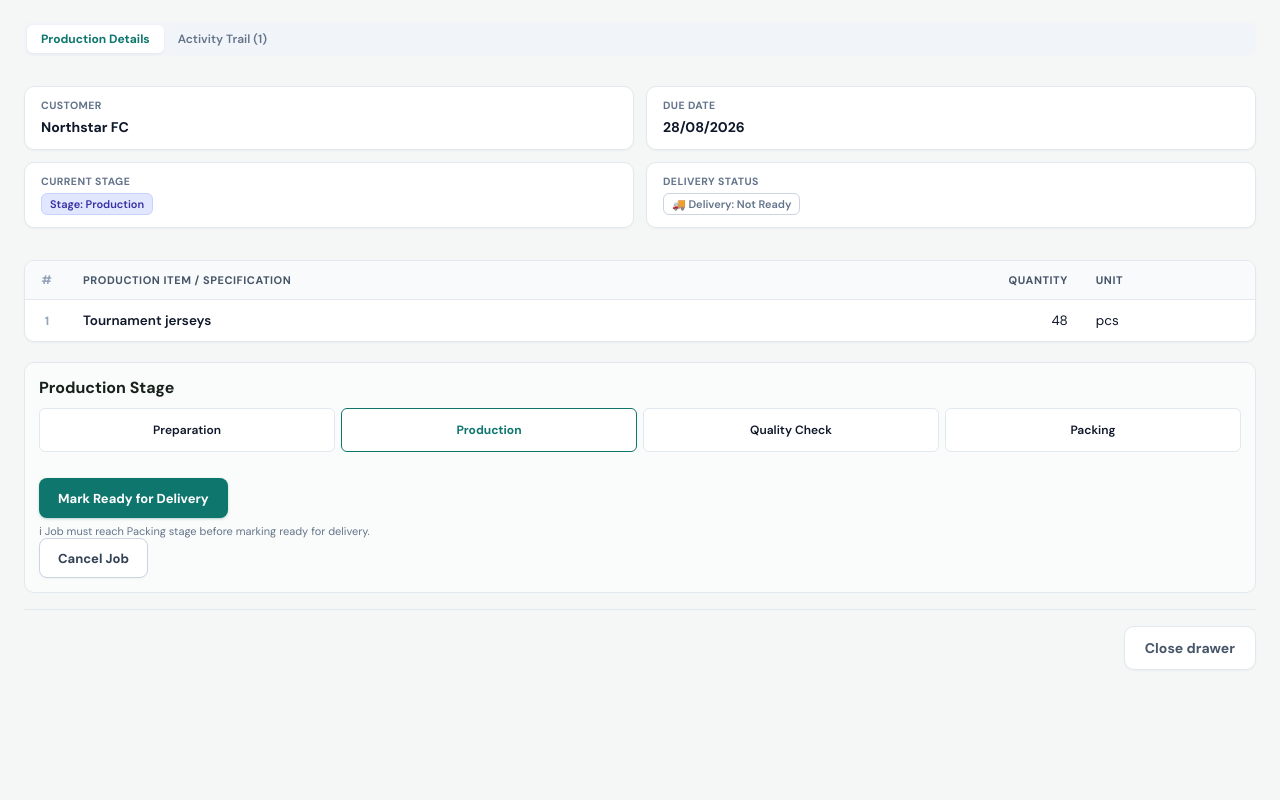
Test: Jobs Feature Interactive Journey (AT-03, AT-06) › replays a committed-but-lost job cancellation using the same request key/payload/version on retry (correction)
Click the button "Cancel Job".
click(94, 558)  # box [39,538,148,578]
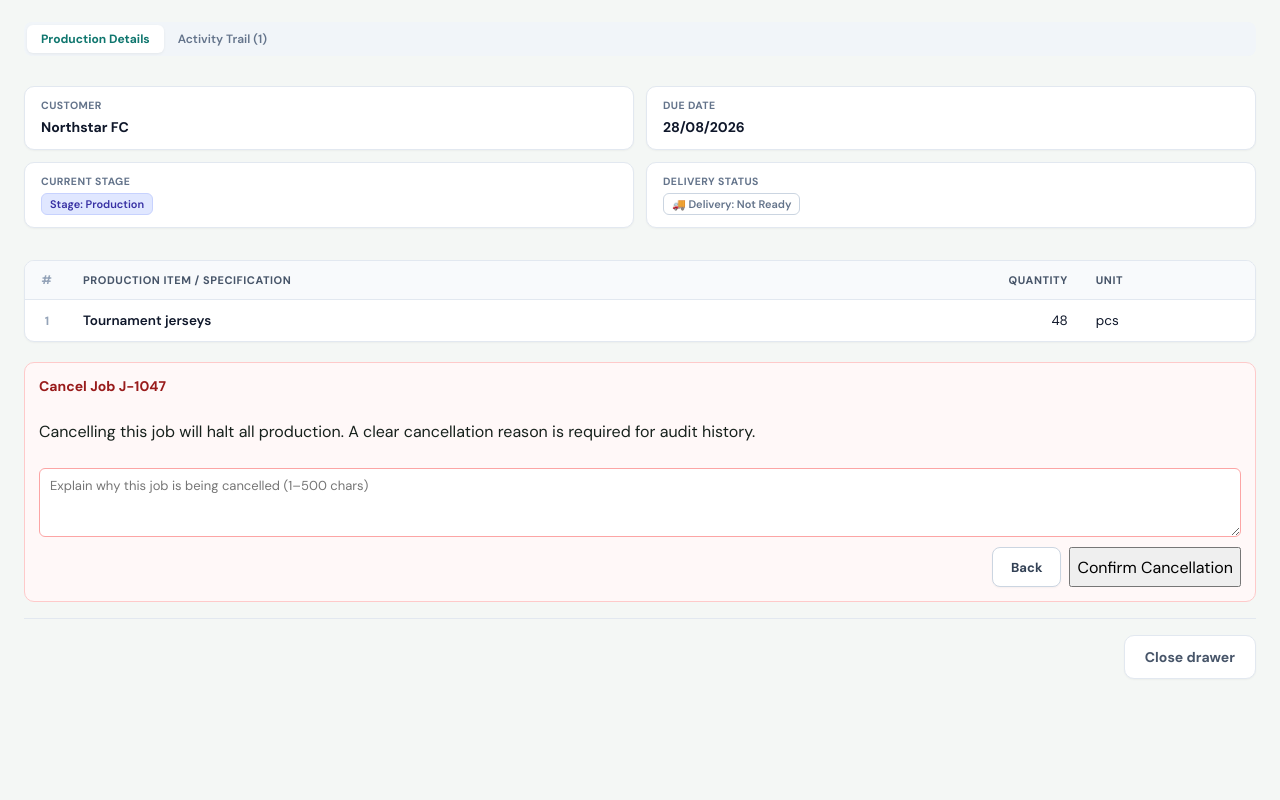
Type "Customer double-booked the venue" into the text box named "Cancellation reason".
click(640, 502); type("Customer double-booked the venue")  # box [39,468,1241,537]
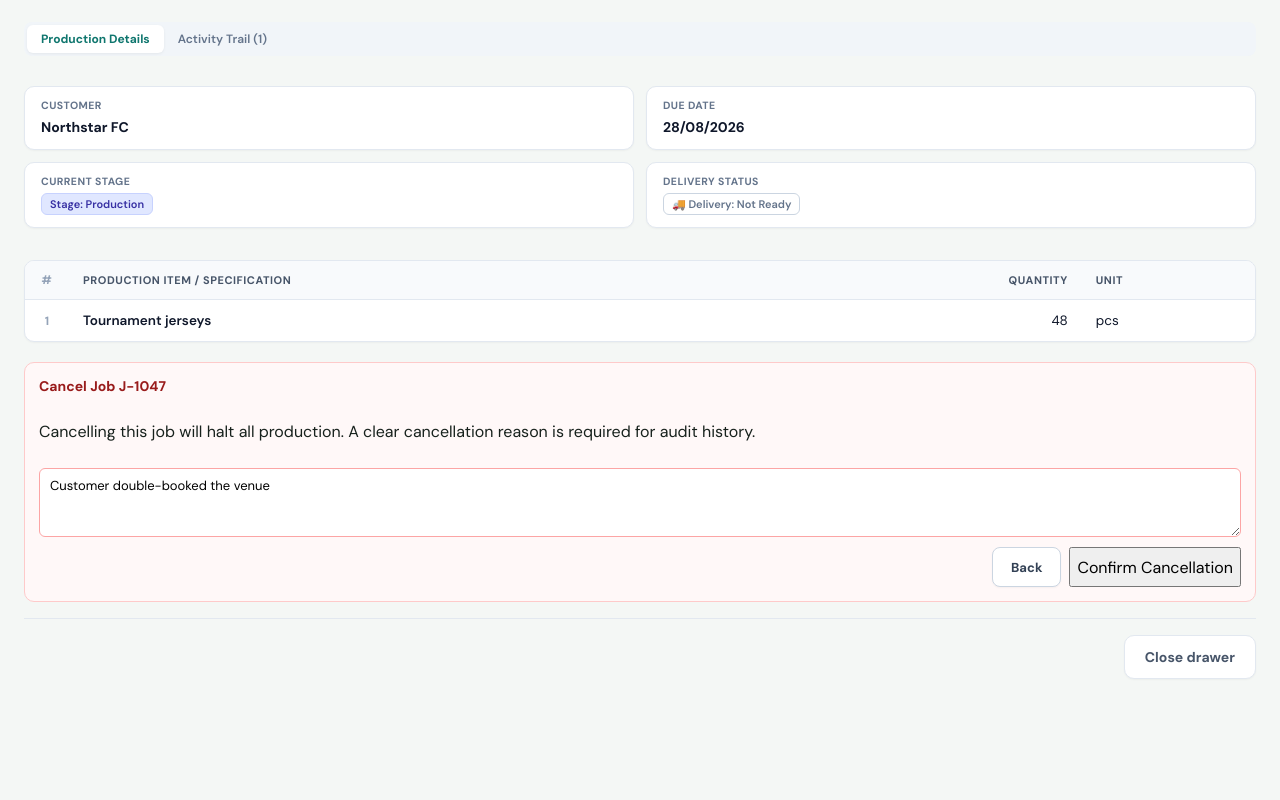
Click the button "Confirm Cancellation".
click(1155, 567)  # box [1069,547,1241,587]
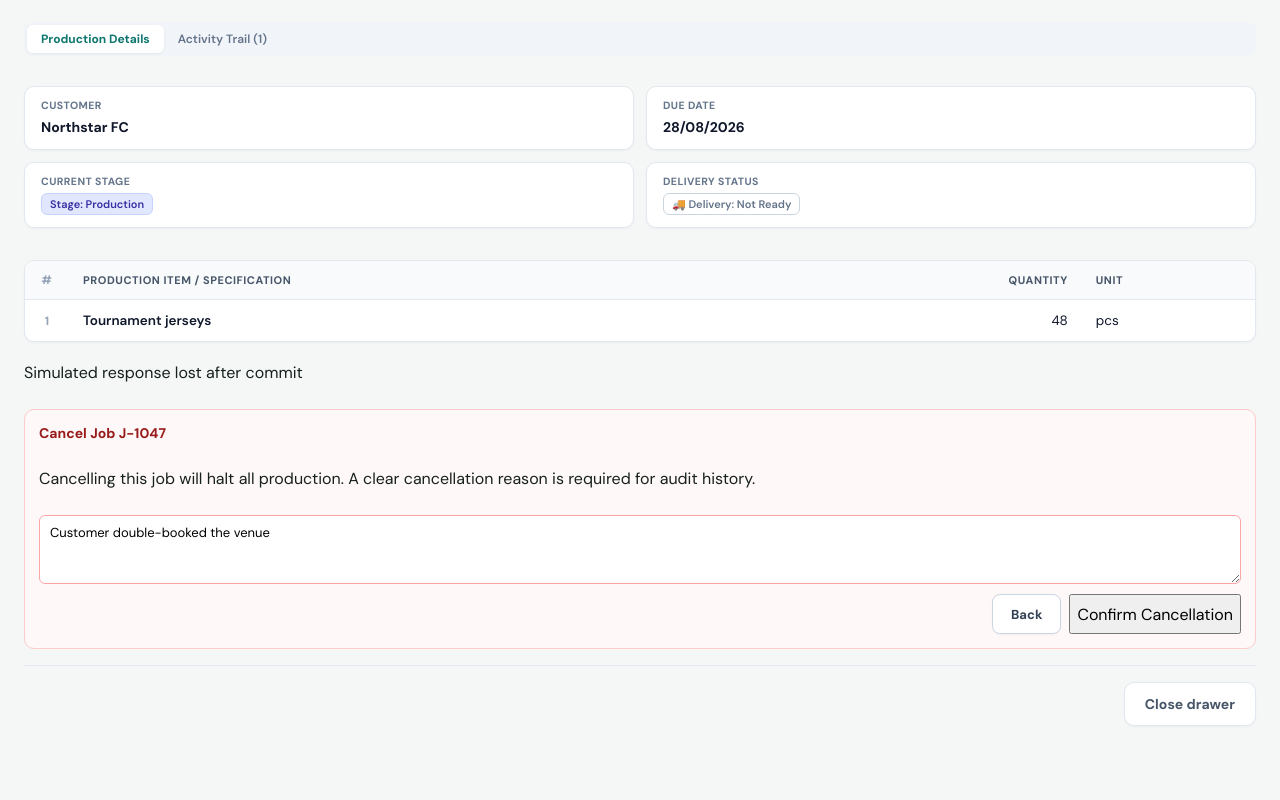
Check: the element with test id "cancel-reason-form" is shown, box [24,409,1256,649]
Check: the text "Simulated response lost after commit" is shown, box [24,362,303,383]
# Retry the unchanged intent: same button, no retyping.
Click the button "Confirm Cancellation".
click(1155, 614)  # box [1069,594,1241,634]
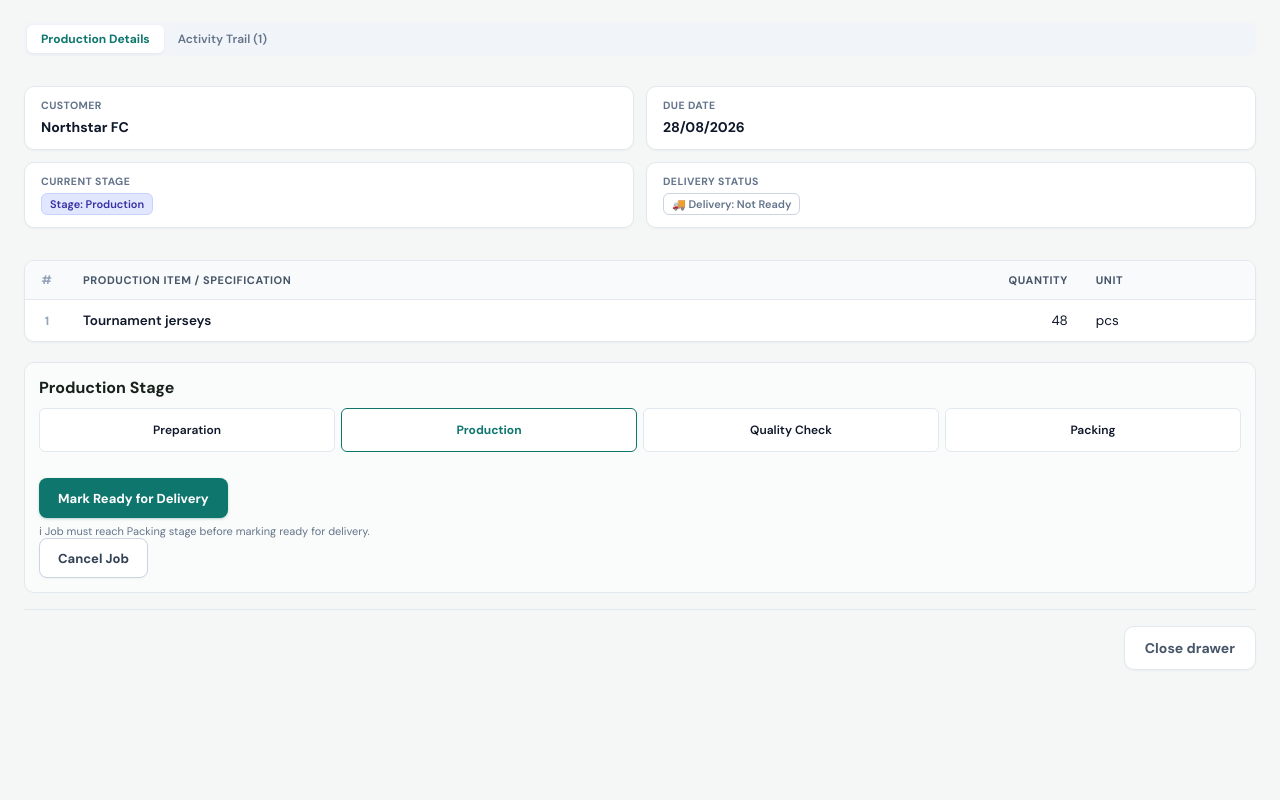
Check: the element with test id "cancel-reason-form" is gone
Check: the text "Simulated response lost after commit" is gone
